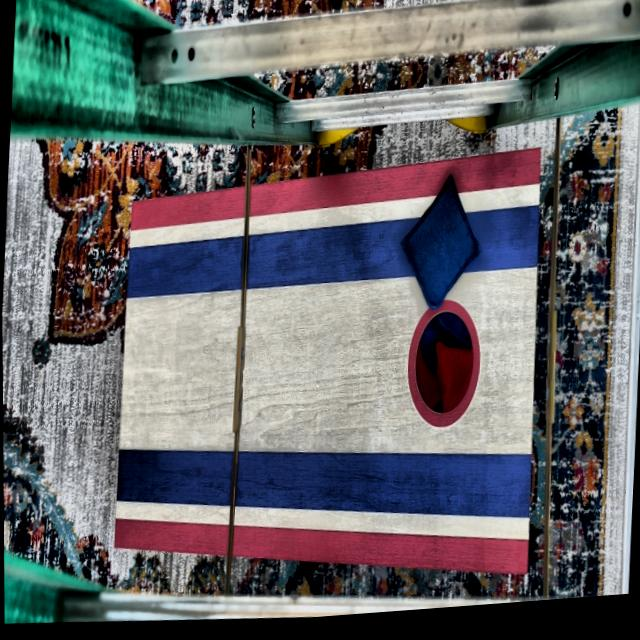blue-bean-bag: (394, 176, 485, 323)
blue-bean-bag-in-hole: (419, 333, 447, 382), (435, 318, 471, 356)
board: (114, 181, 540, 570)
hole: (402, 303, 483, 439)
red-bean-bag-in-hole: (433, 348, 475, 421), (412, 356, 441, 420)
